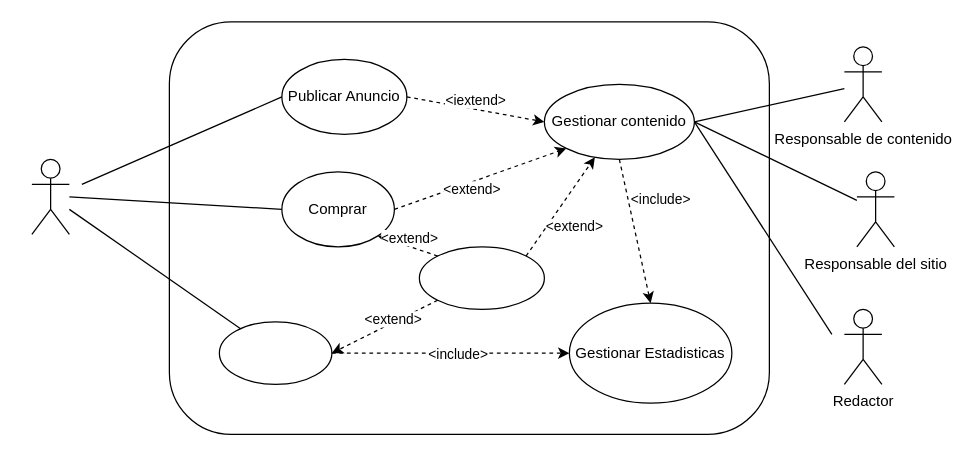
Image size: 974x456. Some labels were removed from this diagram. The shapes that lost their labels are listed below. From the top down, each one's centre as x and y in pixels, then its label:
point (50, 196): Visitante
point (481, 277): Buscar sitio
point (275, 352): Consultar sitio
